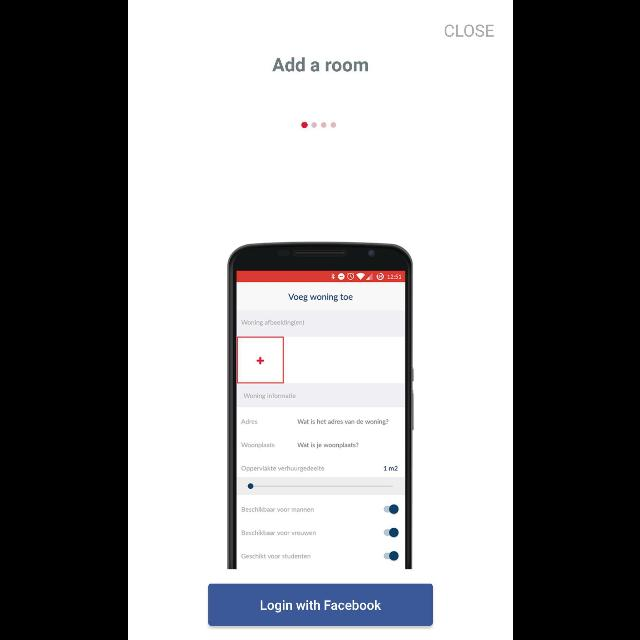image: (226, 242, 412, 570)
pageindicator: (300, 122, 336, 128)
text: (271, 58, 367, 72), (444, 24, 494, 38)
textbutton: (208, 584, 432, 626)
